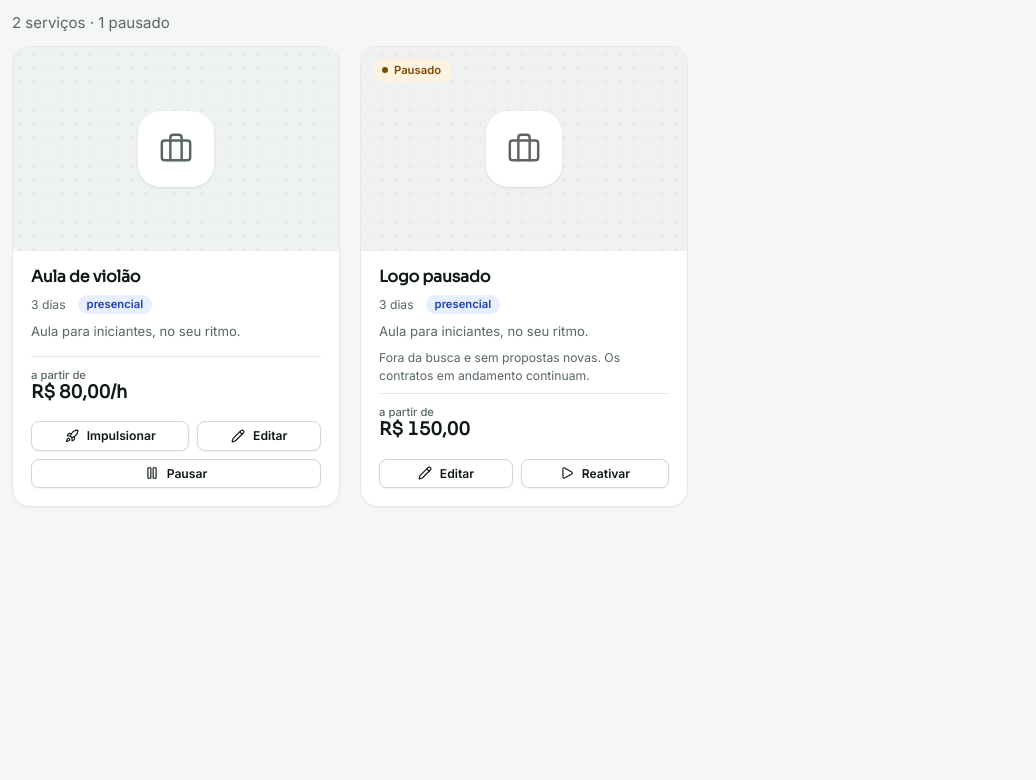
Test: MyServices: pausar e reativar (RF-030) › "Reativar" manda isActive true e avisa que voltou para a busca
This screenshot has width=1036, height=780.
What coordinates should you click on to do the following:
click the button "Reativar"
I would click on:
 (595, 473)
Its box is [521,459,669,488].
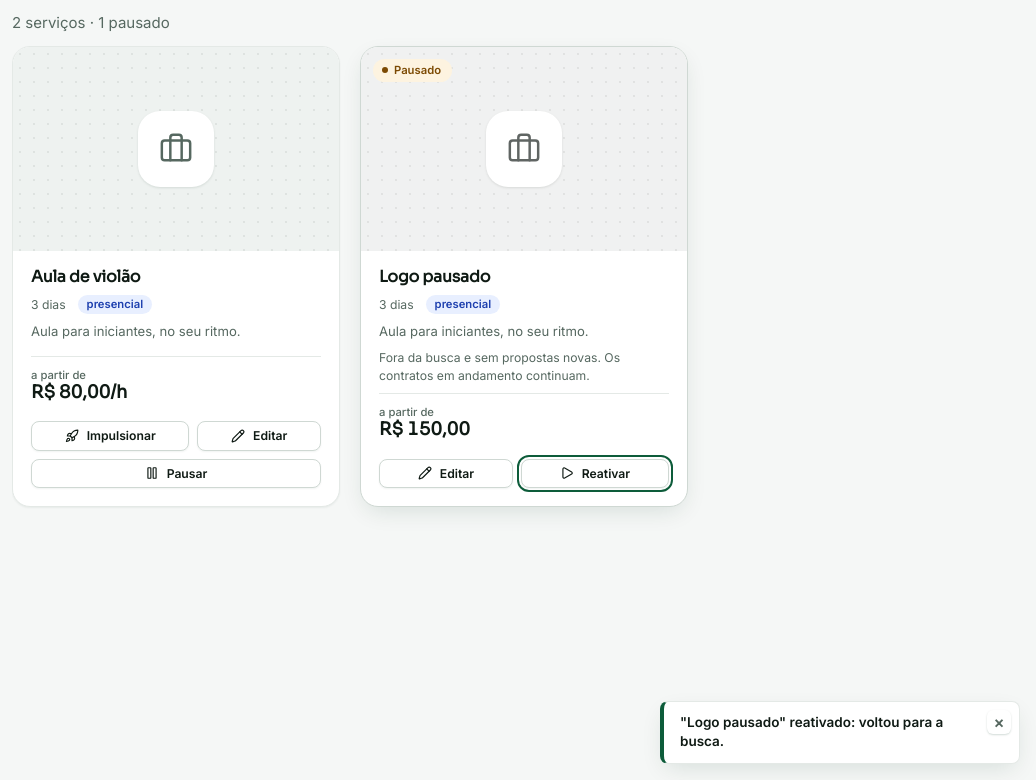
Expected: the text "\"Logo pausado\" reativado: voltou para a busca." is shown, [680,713,979,752]
